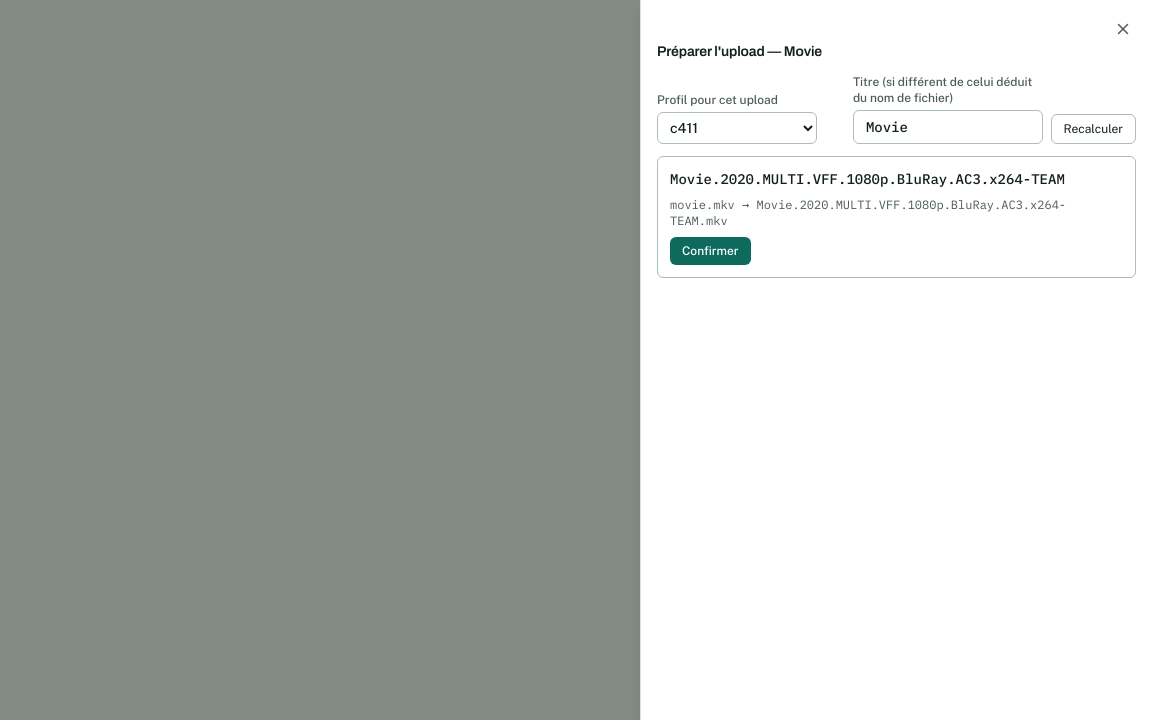
Scenario: etat error : affiche le message et fait reapparaitre Confirmer
This screenshot has width=1152, height=720.
Click the button "Confirmer" at x=710, y=251, box [670,237,751,265]
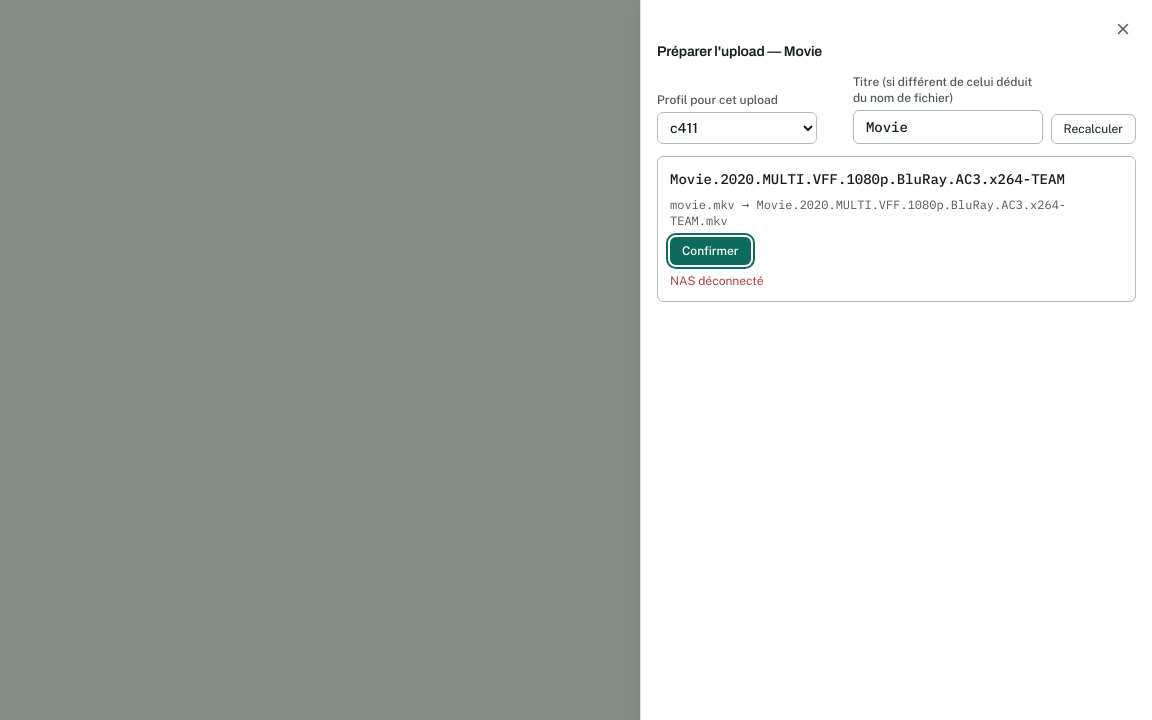
Check: the text "NAS déconnecté" is shown, box [670,274,764,288]
